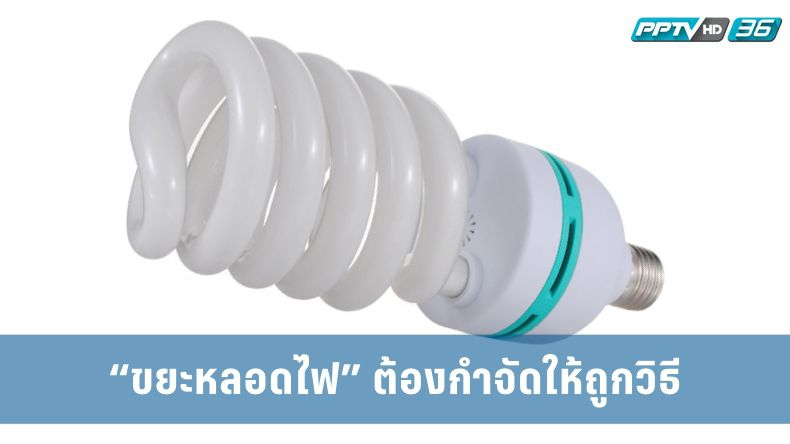Light_bulb: (119, 15, 675, 350)
